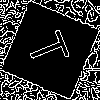T: (25, 25, 79, 70)
